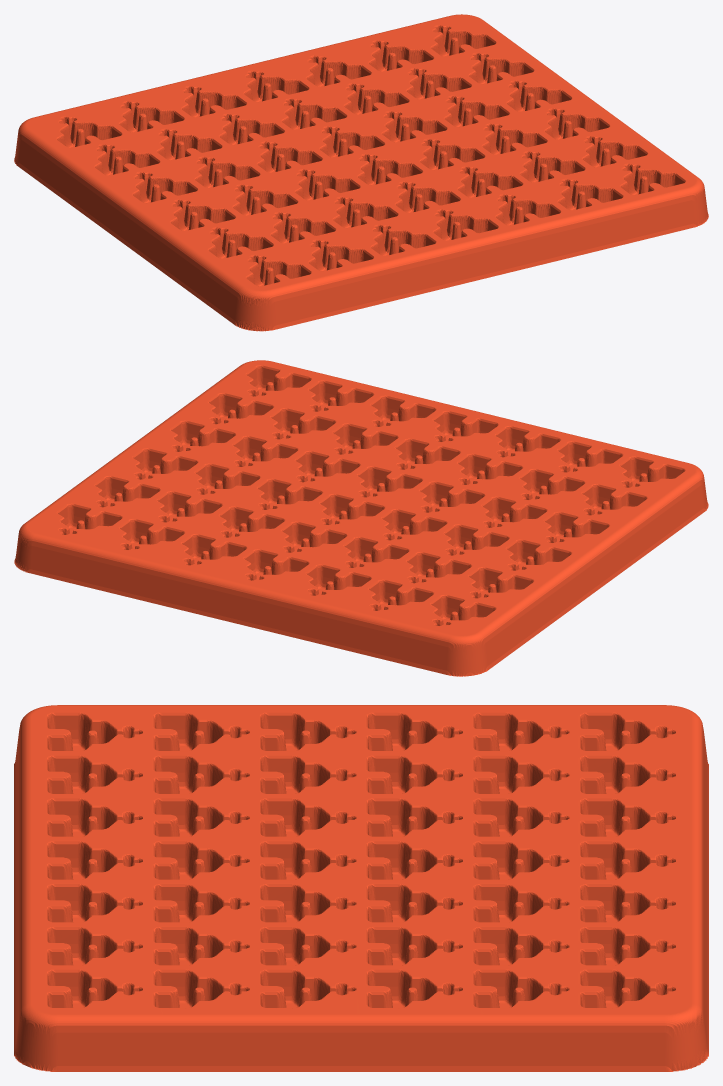
Rendered from mold.glb.
3 renders of one model, top to bottom at view 1: azimuth 30°, elevation 25°; view 2: azimuth 150°, elevation 25°; view 3: azimuth 270°, elevation 25°, orthographic. The views are drawn at different scales.
Visible parts, largest first — view 1: geometry_0; view 2: geometry_0; view 3: geometry_0.
Part boxes in pixels (x1,y1,x2,y2): geometry_0: (14,14,708,331); geometry_0: (14,360,708,676); geometry_0: (14,705,708,1071).
Bounding box in the file's own units: 0.1581 × 0.0114 × 0.1437.
